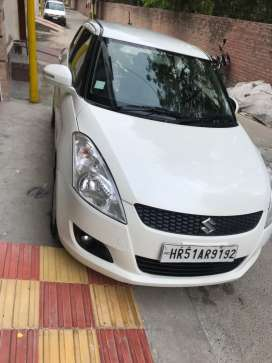license_plate: (162, 244, 239, 264)
